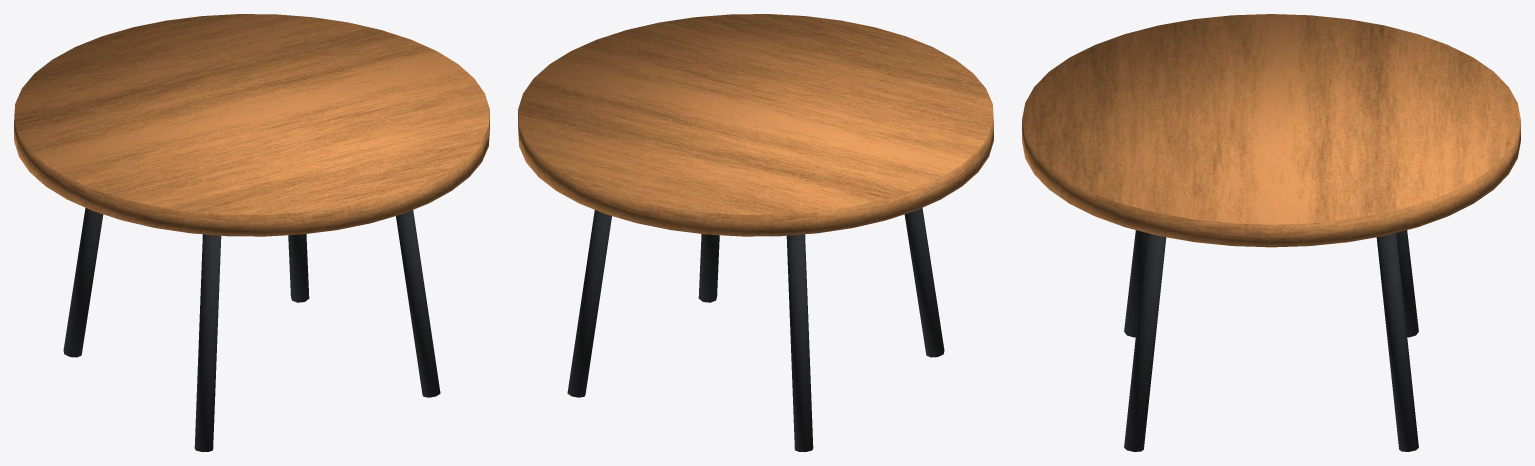
The model's file is lounge.round-coffee-table.glb.
3 views of the same model, side by side, from view 1: azimuth 30°, elevation 25°; view 2: azimuth 150°, elevation 25°; view 3: azimuth 270°, elevation 25° (orthographic). The views are drawn at different scales.
Visible parts, largest first — view 1: lounge.round-coffee-table.001; view 2: lounge.round-coffee-table.001; view 3: lounge.round-coffee-table.001.
Part boxes in pixels (x1=…): lounge.round-coffee-table.001: x1=14, y1=14, x2=489, y2=451; lounge.round-coffee-table.001: x1=518, y1=14, x2=993, y2=451; lounge.round-coffee-table.001: x1=1022, y1=14, x2=1520, y2=451.
Size of the model in its own units: 0.7 by 0.422 by 0.7.
2 materials, 1 textured.
